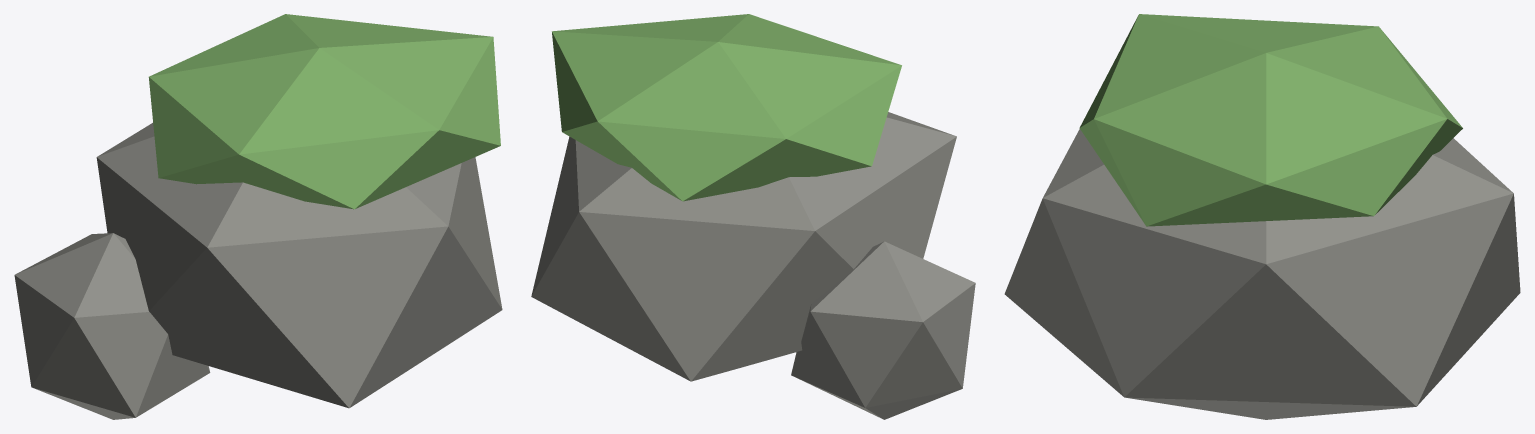
The model's file is rock.glb.
3 views of the same model, side by side, from view 1: azimuth 30°, elevation 25°; view 2: azimuth 150°, elevation 25°; view 3: azimuth 270°, elevation 25° (orthographic). The views are drawn at different scales.
Parts seen in each view (by area): view 1: rock_body, rock_moss_top, rock_side; view 2: rock_body, rock_moss_top, rock_side; view 3: rock_body, rock_moss_top.
Boxes of the visible parts, <box> form: rock_body: <box>96,123,502,408</box>; rock_moss_top: <box>148,14,500,209</box>; rock_side: <box>14,233,210,419</box>; rock_body: <box>531,112,956,381</box>; rock_moss_top: <box>552,14,901,201</box>; rock_side: <box>791,241,975,419</box>; rock_body: <box>1004,129,1520,419</box>; rock_moss_top: <box>1079,14,1462,226</box>.
Size of what is drawn, in the model's own units: 0.9624 by 0.6955 by 0.8514.
